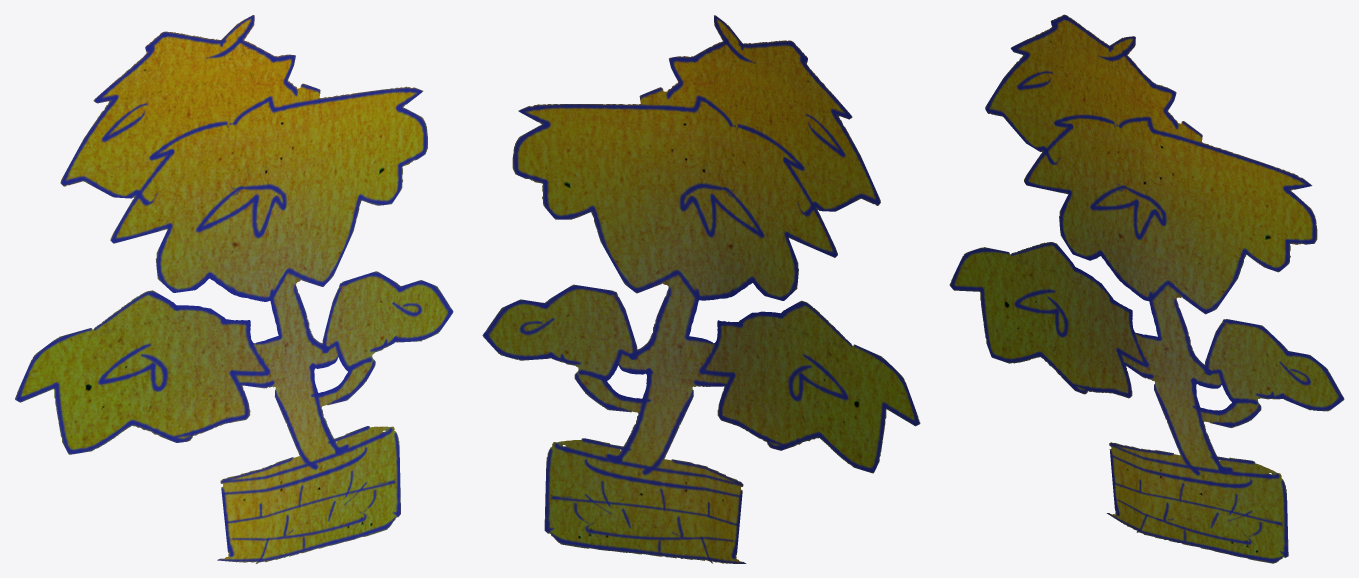
The model's file is 02_plant_02.fbx.
3 views of the same model, side by side, from view 1: azimuth 30°, elevation 25°; view 2: azimuth 150°, elevation 25°; view 3: azimuth 330°, elevation 25° (orthographic). The views are drawn at different scales.
Visible parts, largest first — view 1: 02_樹_02; view 2: 02_樹_02; view 3: 02_樹_02.
Boxes of the visible parts, x1,y1,x2,y2 form: 02_樹_02: [15, 15, 453, 563]; 02_樹_02: [482, 15, 920, 563]; 02_樹_02: [949, 14, 1344, 563].
Size of the model in its own units: 296 by 360 by 20.63.
Materials: 1 (1 with a texture image).
